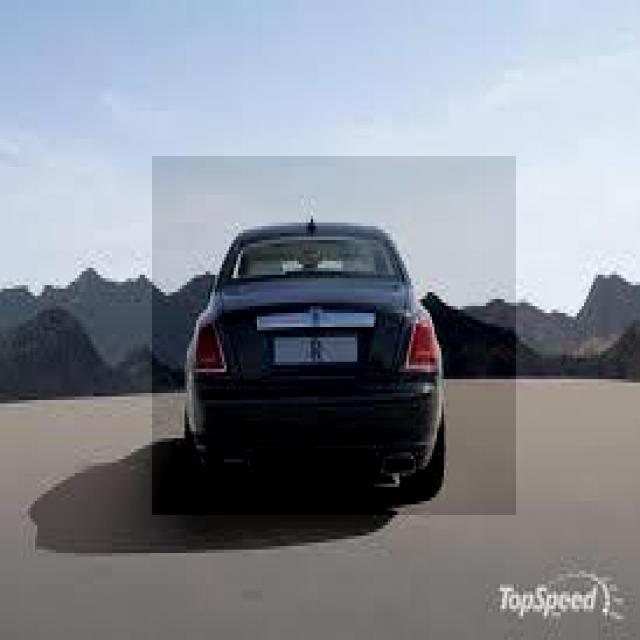Car: (152, 156, 516, 515)
